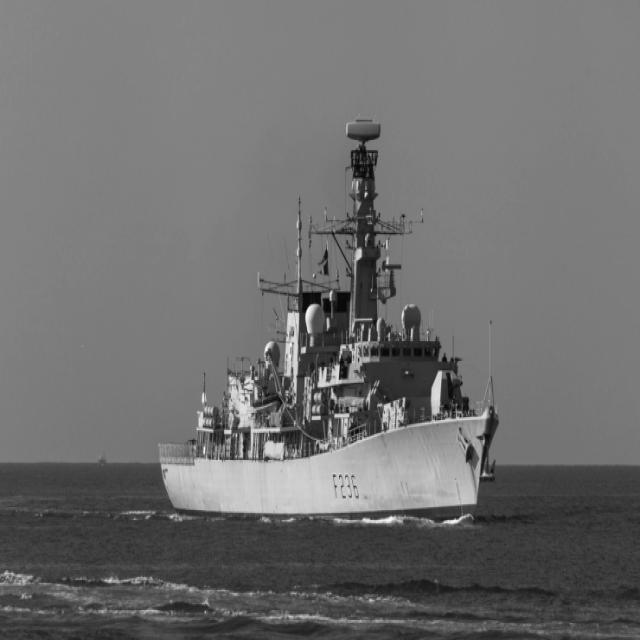Fragata: (158, 111, 506, 531)
